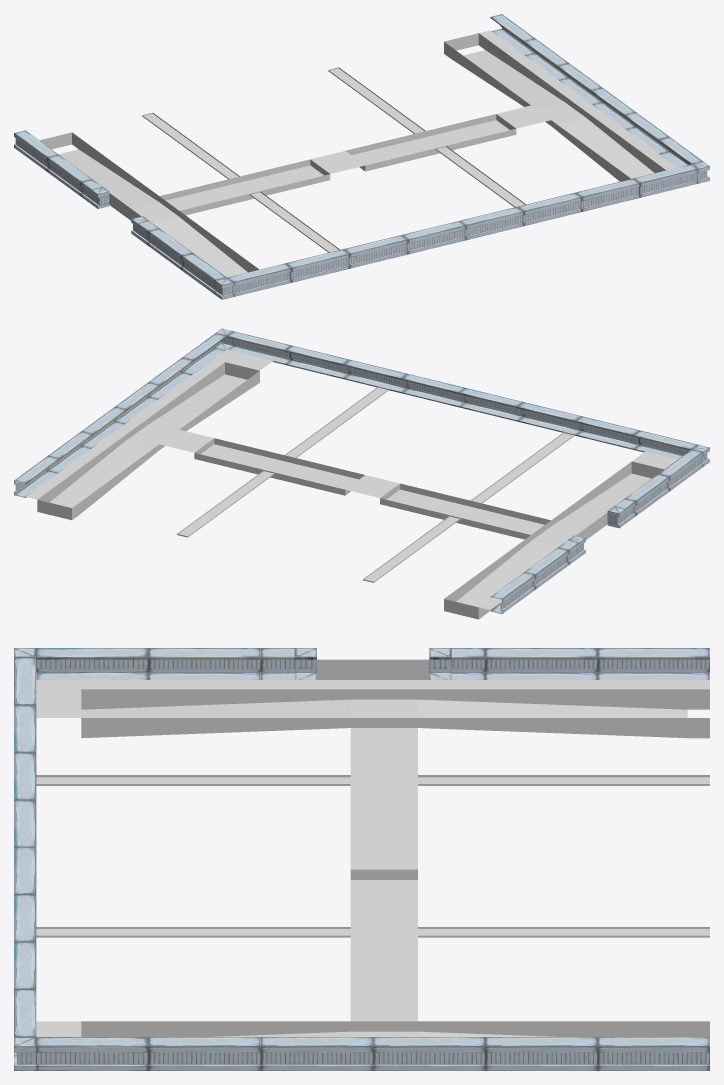
Rendered from fixNormals.fbx.
The picture shows the model from 3 angles, top to bottom: view 1: azimuth 30°, elevation 25°; view 2: azimuth 150°, elevation 25°; view 3: azimuth 270°, elevation 25°; orthographic projection. The views are drawn at different scales.
Visible parts, largest first — view 1: dock_ceiling.005, dock_edgeT.002; view 2: dock_ceiling.005, dock_edgeT.002; view 3: dock_ceiling.005, dock_edgeT.002.
Part boxes in pixels (left/top/right/bottom): dock_ceiling.005: left=40, top=30, right=677, bottom=277; dock_edgeT.002: left=14, top=14, right=709, bottom=299; dock_ceiling.005: left=26, top=349, right=677, bottom=619; dock_edgeT.002: left=14, top=328, right=709, bottom=614; dock_ceiling.005: left=36, top=659, right=709, bottom=1036; dock_edgeT.002: left=14, top=648, right=709, bottom=1070.
Size of the model in its own units: 8400 by 420 by 6200.
